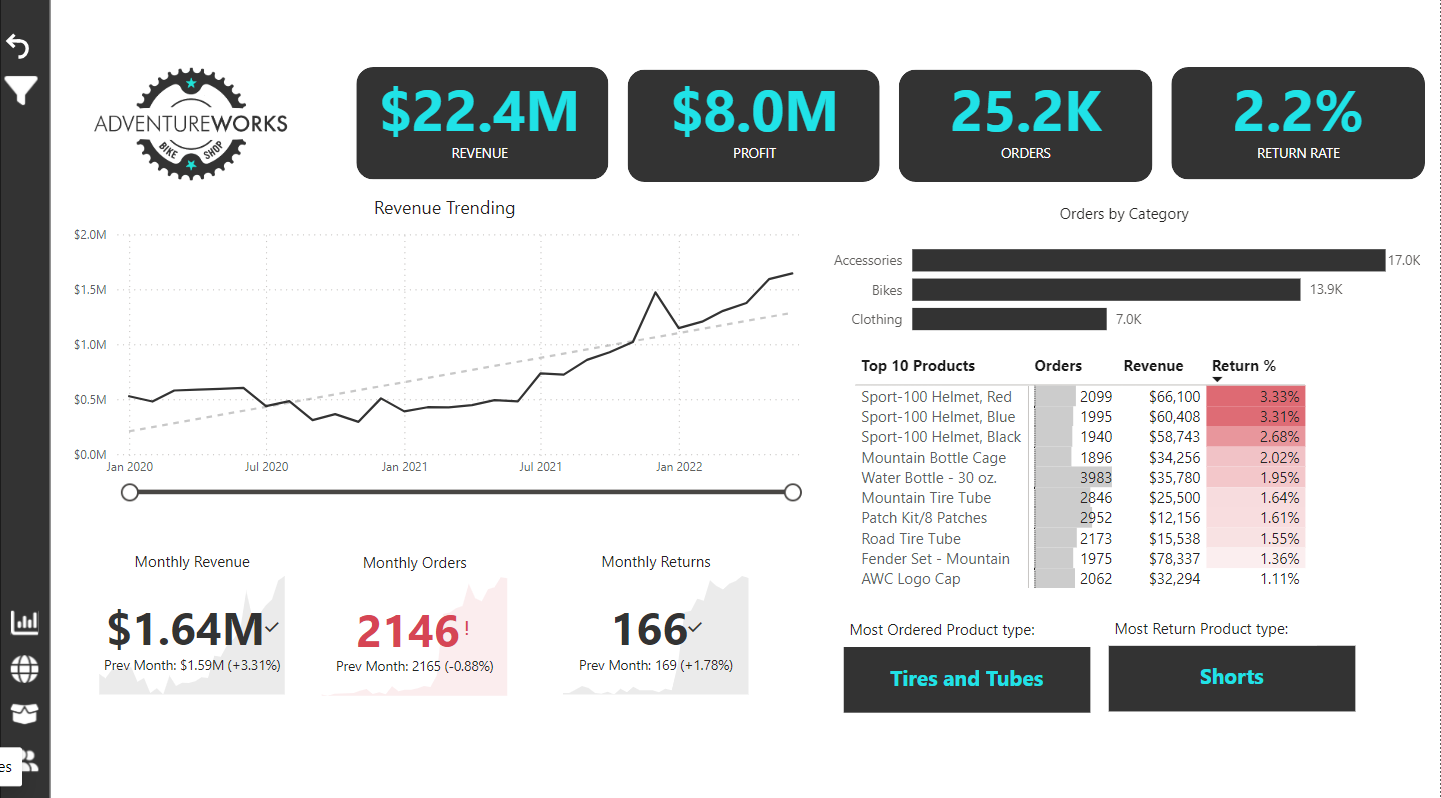

The page's visual inventory and layout, read from the dashboard file:
{"tool":"powerbi","page":{"name":"Executive Dashboard","canvas":[1280,720],"ordinal":0},"visuals":[{"type":"group","id":"g1","title":"KPI Background","box":[316.7,23.1,950,165.4],"z":0,"group":"g3"},{"type":"card","fields":{"Values":["Measure Table.Total Profit"]},"box":[571.8,23.1,197.4,165.4],"z":0,"group":"g2"},{"type":"image","title":"AW Logo","box":[60.3,43.6,220.5,139.7],"z":0},{"type":"shape","box":[316.7,62.5,224.4,100],"z":0,"group":"g1"},{"type":"actionButton","box":[5.1,540.5,49.5,32.6],"z":0,"group":"g4"},{"type":"shape","title":"Left Nav background","box":[0,0,45,720.5],"z":1000},{"type":"group","id":"g2","title":"KPI Values","box":[571.8,23.1,680.8,165.4],"z":1000,"group":"g3"},{"type":"card","fields":{"Values":["Measure Table.Total Orders"]},"box":[812.8,23.1,197.4,165.4],"z":1000,"group":"g2"},{"type":"shape","box":[557.7,63.8,224.4,100],"z":1000,"group":"g1"},{"type":"actionButton","box":[5.1,581.1,49.5,32.6],"z":1000,"group":"g4"},{"type":"group","id":"g3","title":"KPIs","box":[316.7,23.1,950,165.4],"z":2000},{"type":"card","fields":{"Values":["Measure Table.Return Rate"]},"box":[1055.1,23.1,197.4,165.4],"z":2000,"group":"g2"},{"type":"shape","box":[798.8,63.8,225.6,100],"z":2000,"group":"g1"},{"type":"actionButton","box":[5.1,621.7,49.5,32.6],"z":2000,"group":"g4"},{"type":"card","fields":{"Values":["Measure Table.Total Revenue"]},"box":[327.4,23.1,197.4,165.4],"z":3000,"group":"g1"},{"type":"lineChart","title":"Revenue Trending","fields":{"Y":["Measure Table.Total Revenue"],"Category":["Calendar Lookup.Year","Calendar Lookup.Start of Quarter","Calendar Lookup.Start of Month"]},"box":[60.2,175,670.5,275],"z":3000},{"type":"actionButton","box":[5.1,662.4,49.5,32.6],"z":3000,"group":"g4"},{"type":"shape","box":[1041.1,62.5,225.6,100],"z":4000,"group":"g1"},{"type":"kpi","title":"Monthly Revenue","fields":{"Indicator":["Measure Table.Total Revenue"],"TrendLine":["Calendar Lookup.Start of Month"],"Goal":["Measure Table.Previous month revenue"]},"box":[83,492,175,133],"z":4000},{"type":"kpi","title":"Monthly Orders","fields":{"TrendLine":["Calendar Lookup.Start of Month"],"Indicator":["Measure Table.Total Orders"],"Goal":["Measure Table.Previous month orders"]},"box":[280.7,493.2,175,133],"z":5000},{"type":"kpi","title":"Monthly Returns","fields":{"TrendLine":["Calendar Lookup.Start of Month"],"Indicator":["Measure Table.Total Returns"],"Goal":["Measure Table.Previous month returns"]},"box":[495.5,492,175,133],"z":6000},{"type":"clusteredBarChart","title":"Orders by Category","fields":{"Category":["Product Category Lookup.CategoryName"],"Y":["Measure Table.Total Orders"]},"box":[730.7,183,536.4,129.5],"z":7000},{"type":"pivotTable","fields":{"Rows":["Product Lookup.ProductName"],"Values":["Measure Table.Total Orders","Measure Table.Total Revenue","Measure Table.Return Rate"]},"box":[756,313.1,425,223.8],"z":8000},{"type":"card","fields":{"Values":["Min(Product Subcategory Lookup.SubcategoryName)"]},"box":[750,577.4,219,58.3],"z":9000},{"type":"textbox","box":[750,547.6,184.5,29.8],"z":10000},{"type":"card","fields":{"Values":["Min(Product Subcategory Lookup.SubcategoryName)"]},"box":[985.7,576.9,219,58.3],"z":11000},{"type":"textbox","box":[985.7,547.1,184.5,29.8],"z":12000},{"type":"actionButton","box":[0,27.7,44.6,31.4],"z":13000},{"type":"group","id":"g4","title":"Navigation Buttons","box":[5.1,540.5,49.5,154.4],"z":14000},{"type":"actionButton","box":[0,63.9,44.6,37.4],"z":16000}]}

Visuals, with their boxes on the page's 1280x720 design canvas (x1, y1, x2, y2). These are canvas units, not pixel positions in the 1441x798 screenshot, which may show the page scaled, cropped or inside an application window:
"KPI Background" group: bbox(317, 23, 1267, 188)
card - Measure Table.Total Profit: bbox(572, 23, 769, 188)
"AW Logo" image: bbox(60, 44, 281, 183)
shape: bbox(317, 62, 541, 162)
actionButton: bbox(5, 540, 55, 573)
"Left Nav background" shape: bbox(0, 0, 45, 720)
"KPI Values" group: bbox(572, 23, 1253, 188)
card - Measure Table.Total Orders: bbox(813, 23, 1010, 188)
shape: bbox(558, 64, 782, 164)
actionButton: bbox(5, 581, 55, 614)
"KPIs" group: bbox(317, 23, 1267, 188)
card - Measure Table.Return Rate: bbox(1055, 23, 1252, 188)
shape: bbox(799, 64, 1024, 164)
actionButton: bbox(5, 622, 55, 654)
card - Measure Table.Total Revenue: bbox(327, 23, 525, 188)
"Revenue Trending" lineChart: bbox(60, 175, 731, 450)
actionButton: bbox(5, 662, 55, 695)
shape: bbox(1041, 62, 1267, 162)
"Monthly Revenue" kpi: bbox(83, 492, 258, 625)
"Monthly Orders" kpi: bbox(281, 493, 456, 626)
"Monthly Returns" kpi: bbox(496, 492, 670, 625)
"Orders by Category" clusteredBarChart: bbox(731, 183, 1267, 312)
pivotTable - Product Lookup.ProductName x Measure Table.Total Orders: bbox(756, 313, 1181, 537)
card - Min(Product Subcategory Lookup.SubcategoryName): bbox(750, 577, 969, 636)
textbox: bbox(750, 548, 934, 577)
card - Min(Product Subcategory Lookup.SubcategoryName): bbox(986, 577, 1205, 635)
textbox: bbox(986, 547, 1170, 577)
actionButton: bbox(0, 28, 45, 59)
"Navigation Buttons" group: bbox(5, 540, 55, 695)
actionButton: bbox(0, 64, 45, 101)
